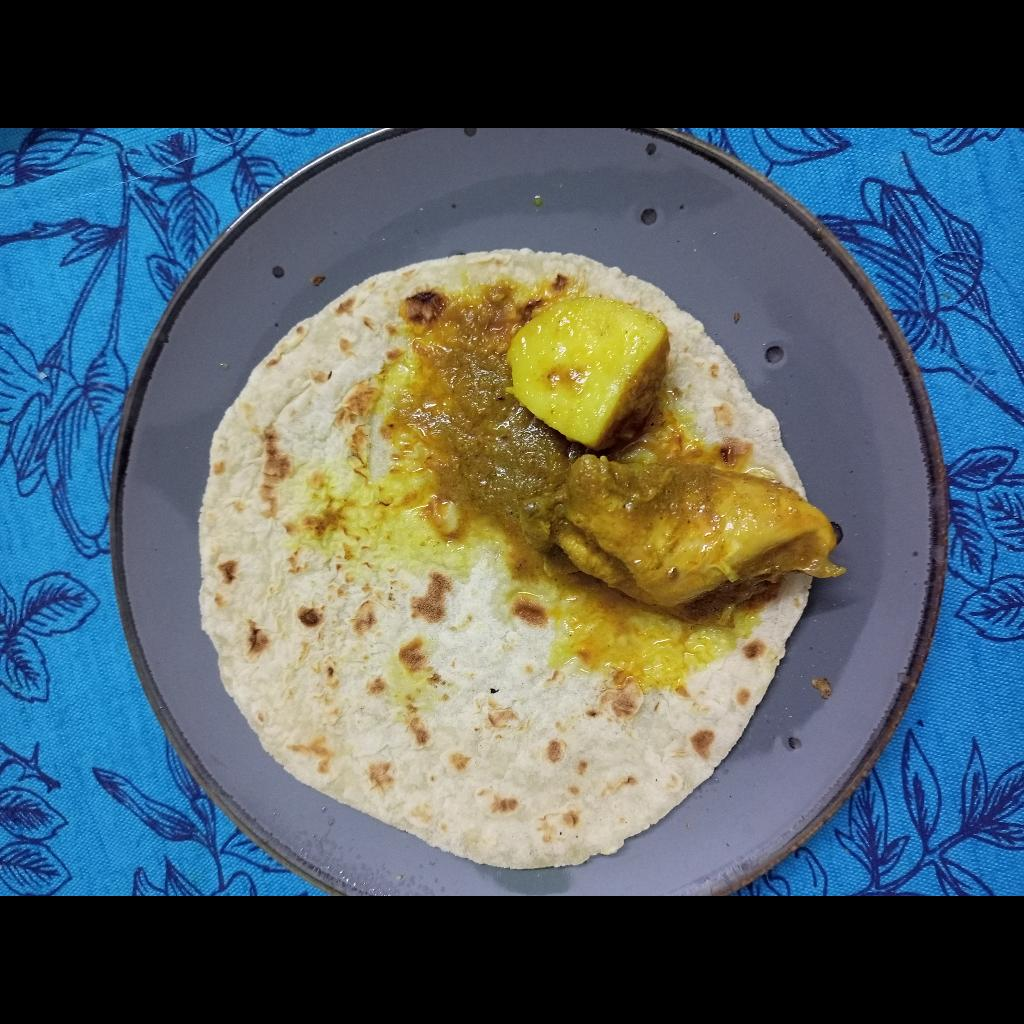chicken: (512, 459, 840, 624)
potato: (507, 290, 670, 453)
ruti: (195, 247, 815, 872)
